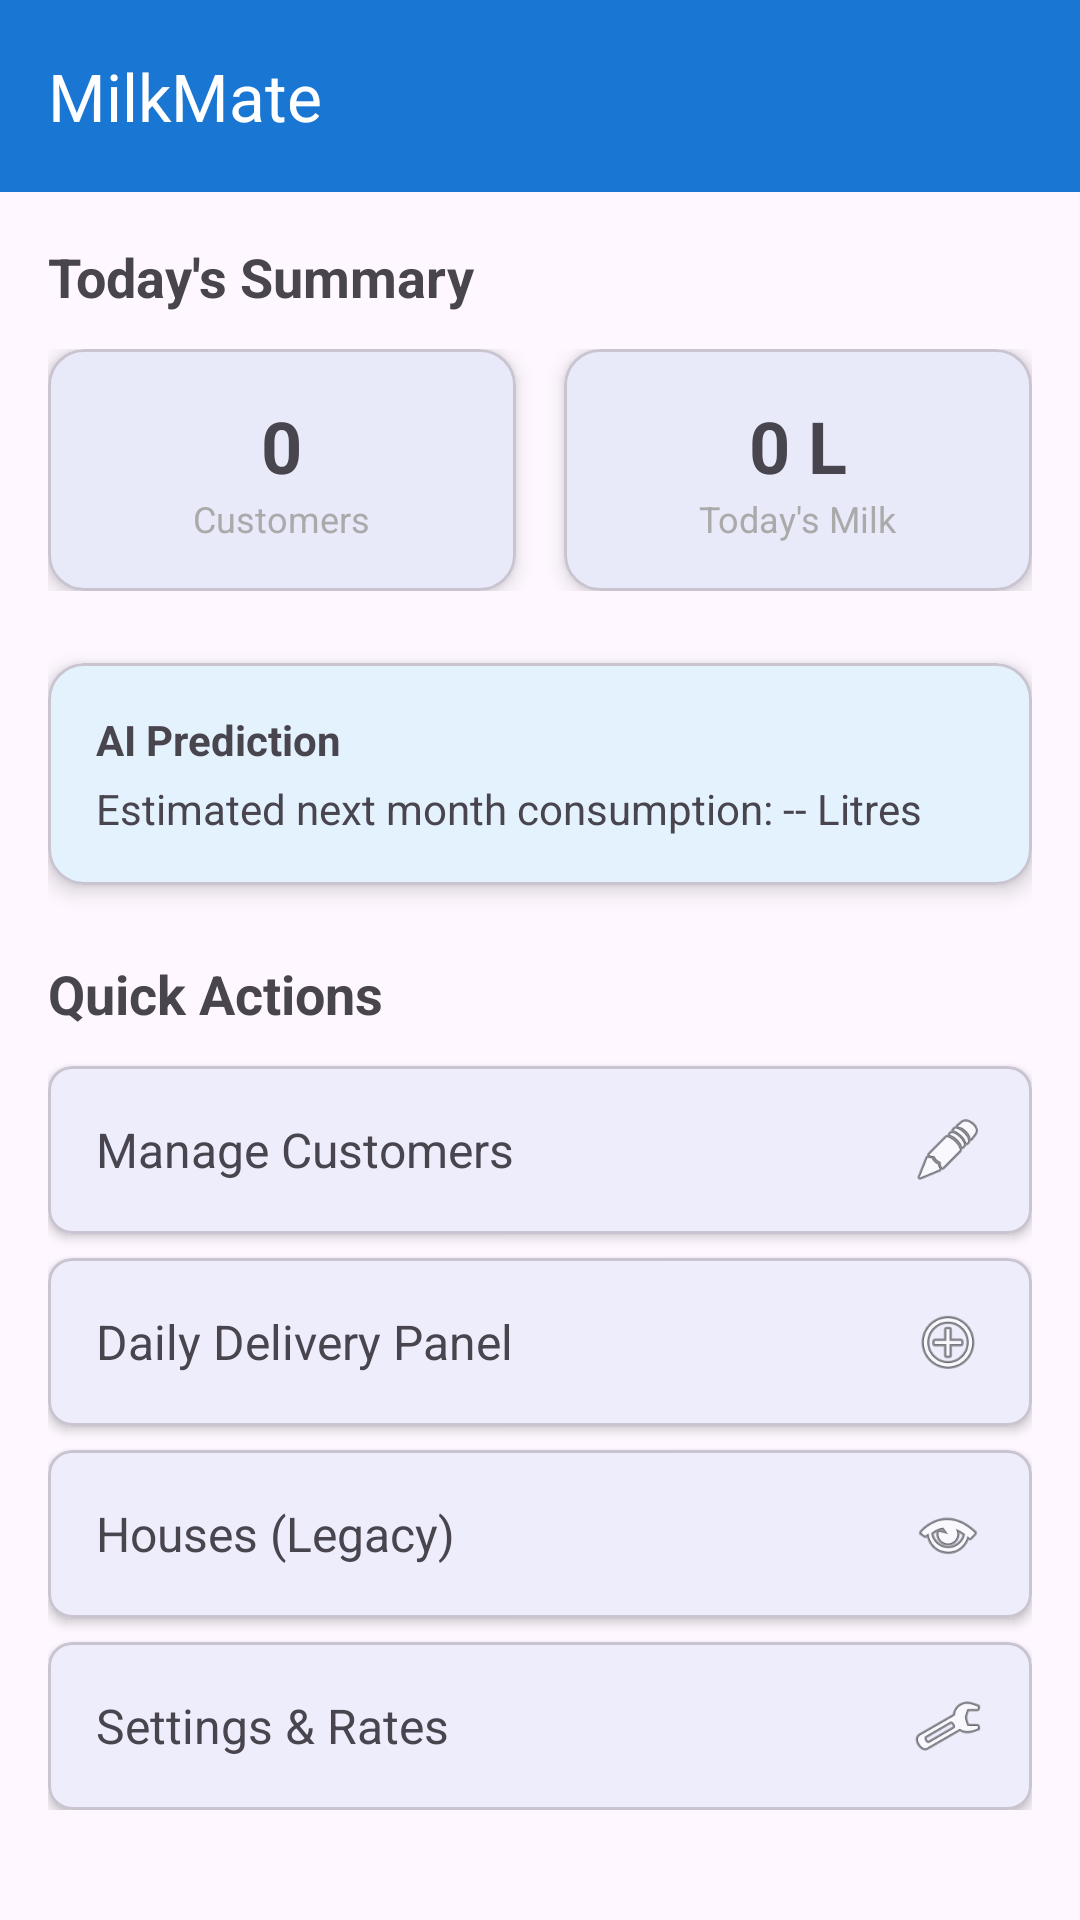

Named icons in this screenshot (1080 × 1920) and their centers, (x,y):
add: (948,1342)
edit: (947,1149)
preferences: (947,1726)
view: (948,1535)
